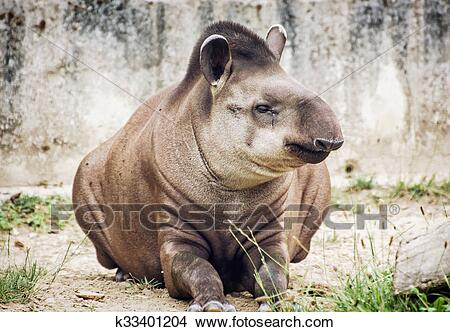Anta: (65, 15, 348, 307)
